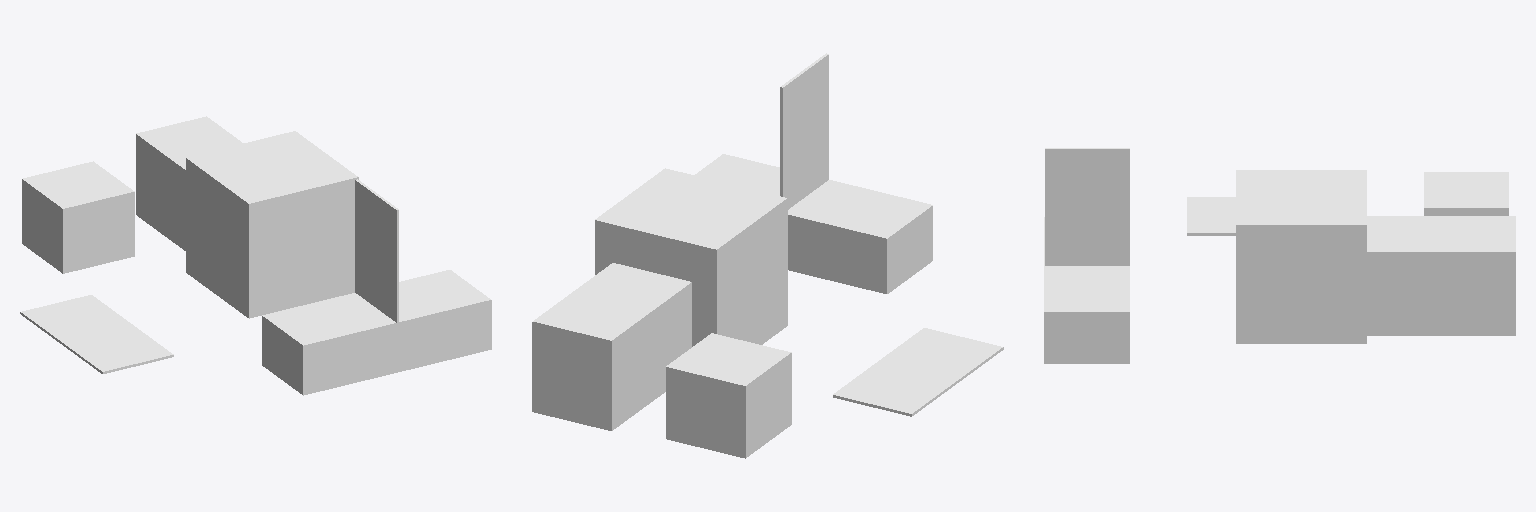
URDF robot description (cubeWorld):
<?xml version="1.0"?>
<robot name="cubeWorld">
  <link name="base_link">
    <visual>
      <origin xyz="0 0 0"/>
      <geometry>
        <mesh filename="package://hpp-rbprm-corba/meshes/cubeWorld2.stl"/>
      </geometry>
      <material name="white">
        <color rgba="1 1 1 1"/>
      </material>
    </visual>
    <collision>
      <origin xyz="0 0 0"/>
      <geometry>
        <mesh filename="package://hpp-rbprm-corba/meshes/cubeWorld2.stl"/>
      </geometry>
    </collision>
  </link>
</robot>

--- Facts derived from the render (not from the file) ---
Views: 3 orthographic renders of the robot side by side, from view 1: azimuth 30°, elevation 25°; view 2: azimuth 150°, elevation 25°; view 3: azimuth 270°, elevation 25°.
Model cubeWorld with 1 links and 0 joints (none), rooted at base_link, posed every joint at zero.
Visible links, largest first — view 1: base_link; view 2: base_link; view 3: base_link.
Boxes of the visible links, box(x1,y1,x2,y2) form: base_link: box(20, 116, 491, 395); base_link: box(532, 53, 1003, 458); base_link: box(1044, 148, 1515, 363).
Size in the robot's own frame: 13.4 by 16.54 by 6.54 metres.
1 mesh visuals loaded from 1 distinct referenced files (1 binary STL).